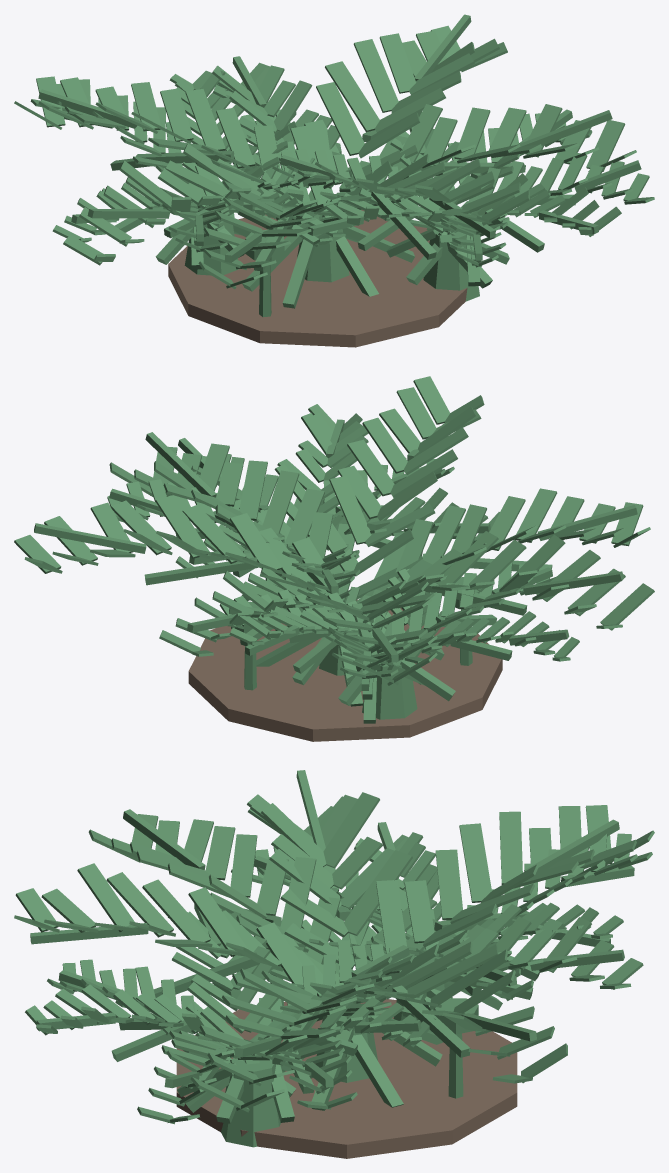
The model's file is botanical-glasshouse-and-palm-house-botanical-glasshou-9c6e83f9__38588.glb.
3 renders of one model, top to bottom at view 1: azimuth 30°, elevation 25°; view 2: azimuth 150°, elevation 25°; view 3: azimuth 270°, elevation 25°, orthographic. The views are drawn at different scales.
Parts seen in each view (by area): view 1: botanical-glasshouse-and-palm-house-fern-bed-clump; view 2: botanical-glasshouse-and-palm-house-fern-bed-clump; view 3: botanical-glasshouse-and-palm-house-fern-bed-clump.
Boxes of the visible parts, left/top/right/bottom form: botanical-glasshouse-and-palm-house-fern-bed-clump: left=14, top=14, right=654, bottom=347; botanical-glasshouse-and-palm-house-fern-bed-clump: left=14, top=376, right=654, bottom=741; botanical-glasshouse-and-palm-house-fern-bed-clump: left=14, top=770, right=654, bottom=1158.
Bounding box in the file's own units: 1.82 × 0.5959 × 1.65.
